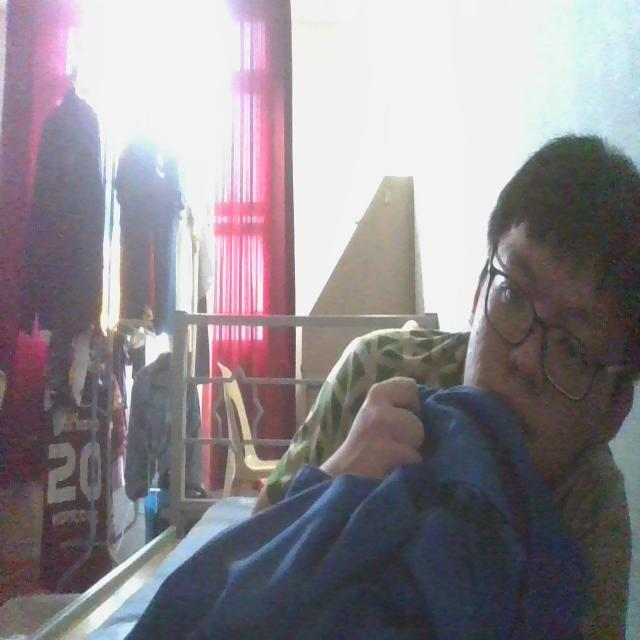person_without_labcoat: (126, 136, 640, 639)
